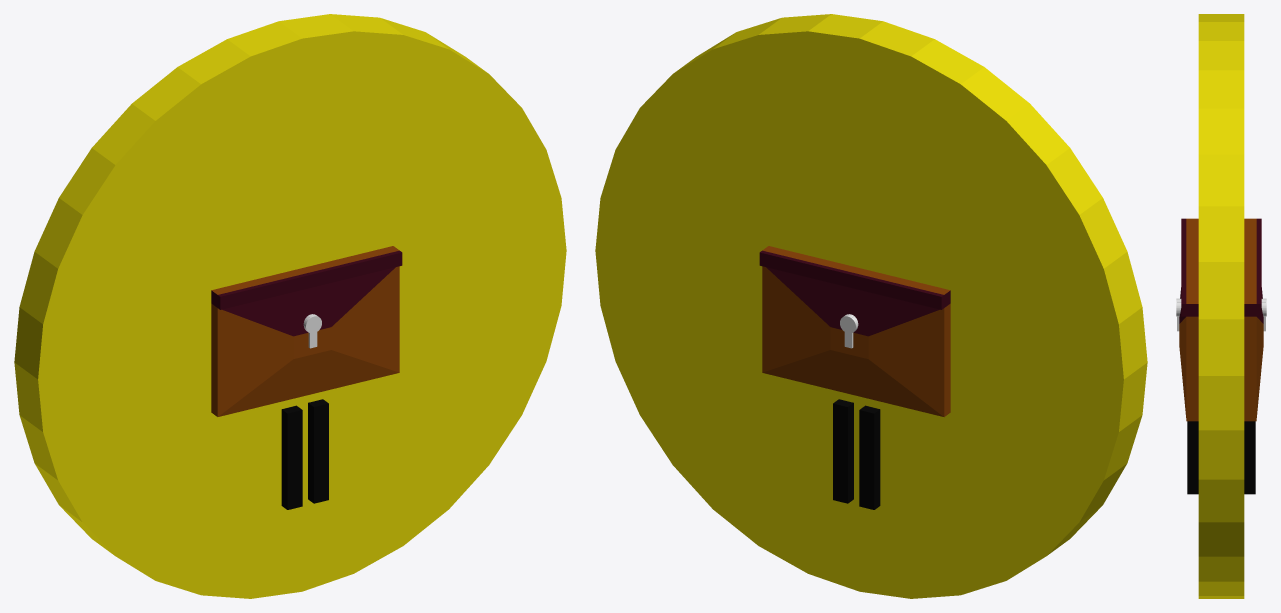
File: LootRoom2.fbx
3 renders of one model, left to right at view 1: azimuth 30°, elevation 25°; view 2: azimuth 150°, elevation 25°; view 3: azimuth 270°, elevation 25°, orthographic. The views are drawn at different scales.
Visible parts, largest first — view 1: Cylinder, Cube, Cube.003, Cube.002; view 2: Cylinder, Cube, Cube.003, Cube.002; view 3: Cylinder, Cube, Cube.002, Cylinder.001.
Boxes of the visible parts, x1=… form: Cylinder: x1=14, y1=14, x2=566, y2=598; Cube: x1=211, y1=246, x2=402, y2=416; Cube.003: x1=281, y1=405, x2=302, y2=509; Cube.002: x1=308, y1=399, x2=328, y2=503; Cylinder: x1=595, y1=14, x2=1147, y2=598; Cube: x1=759, y1=246, x2=950, y2=416; Cube.003: x1=859, y1=405, x2=880, y2=509; Cube.002: x1=833, y1=399, x2=853, y2=503; Cylinder: x1=1198, y1=14, x2=1244, y2=598; Cube: x1=1179, y1=218, x2=1263, y2=421; Cube.002: x1=1187, y1=421, x2=1255, y2=494; Cylinder.001: x1=1176, y1=298, x2=1266, y2=316.
Bounding box in the file's own units: 200 × 200 × 30.91.
